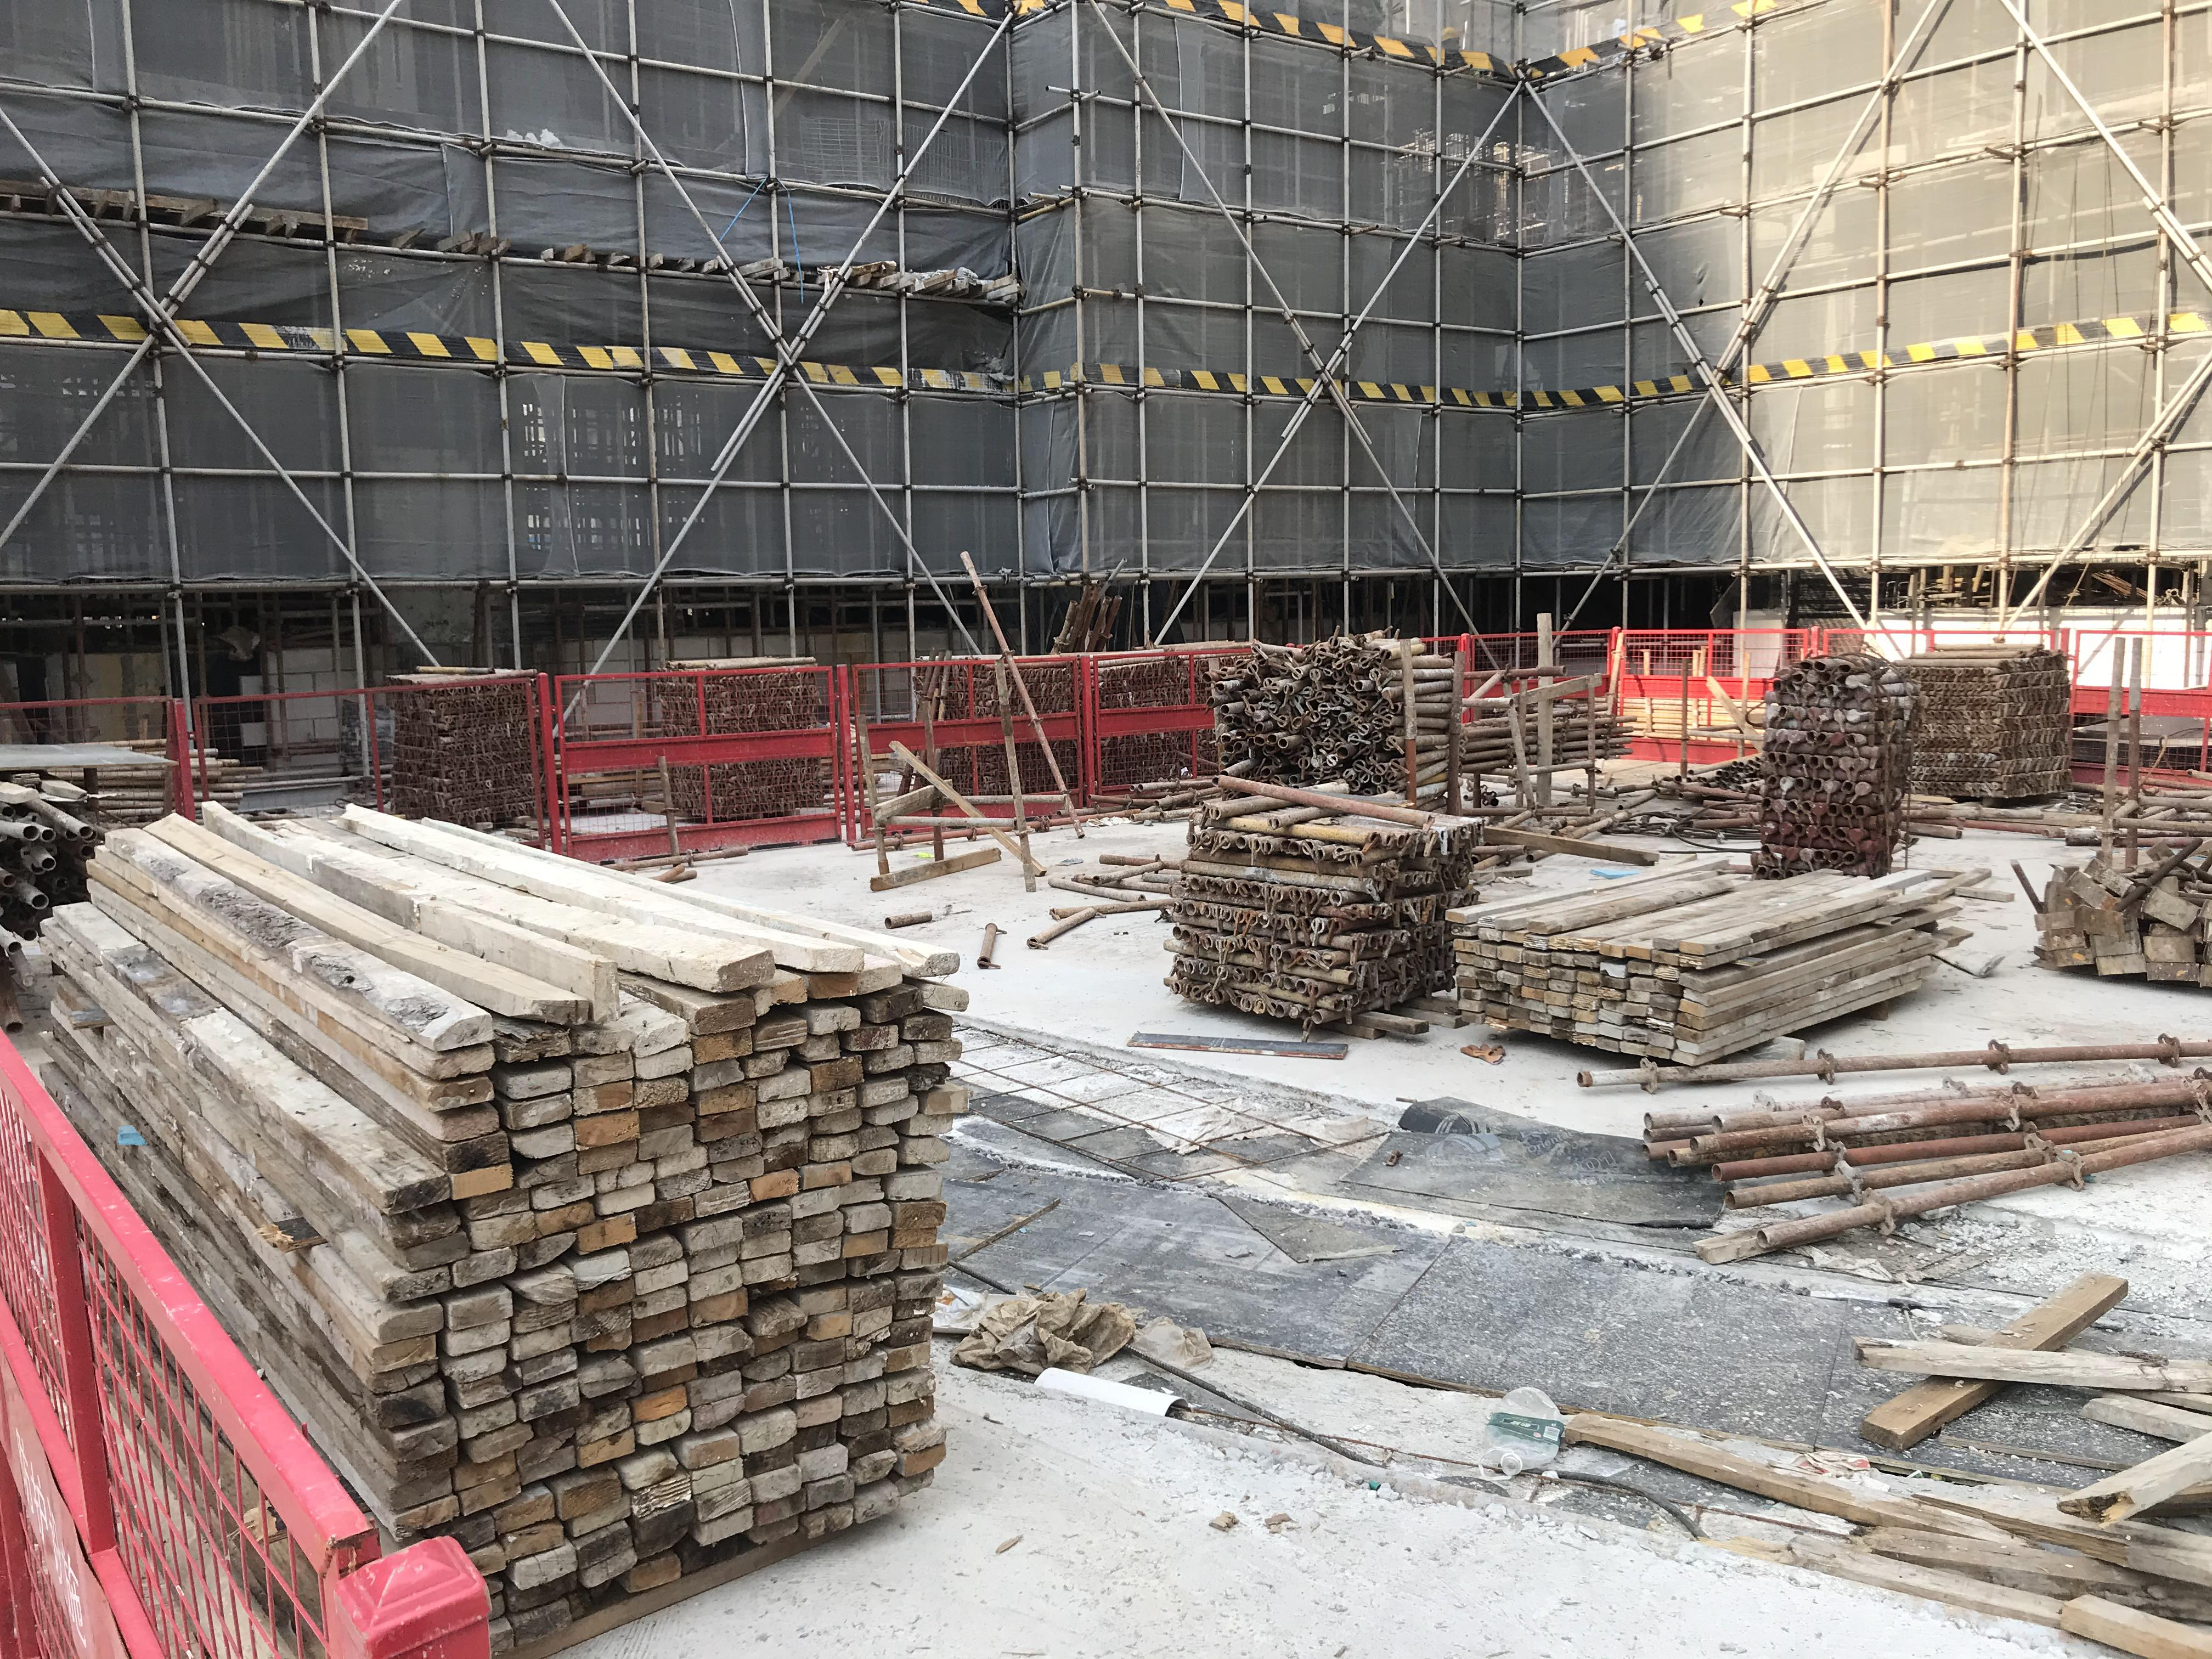scaffold: (1170, 782, 1461, 1032), (1217, 634, 1451, 803), (1763, 655, 1914, 877), (1911, 643, 2076, 796)
wood: (45, 812, 961, 1659), (1449, 861, 1949, 1054)
